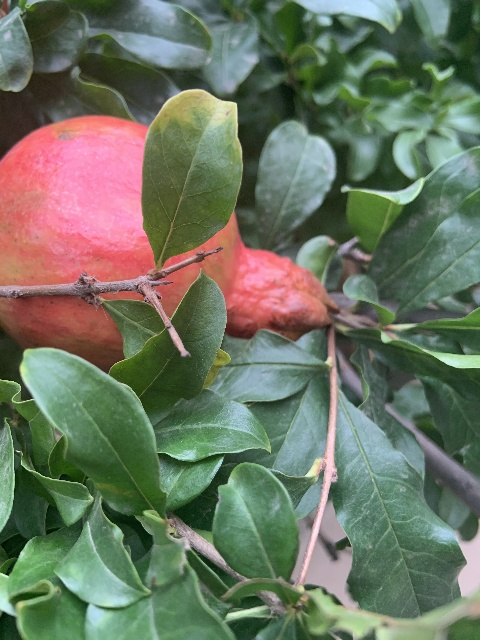ripe: (0, 115, 340, 373)
